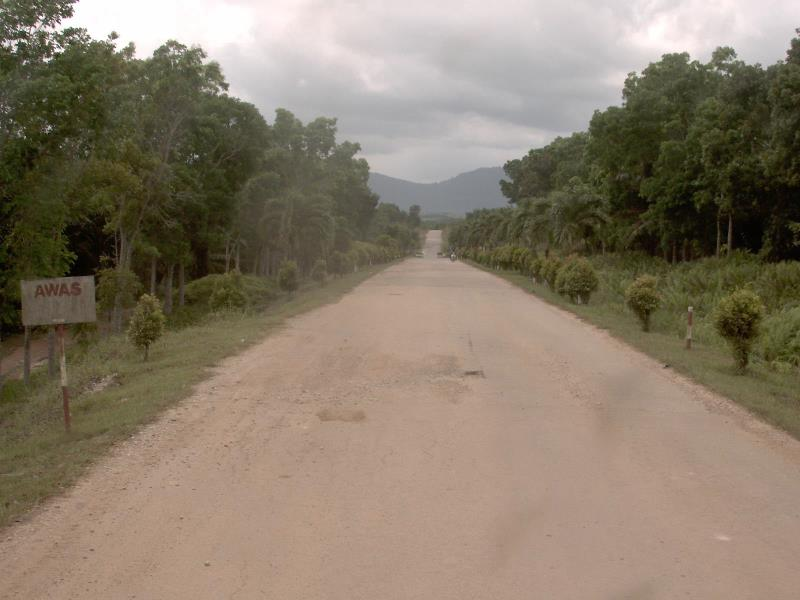ads_sign: (8, 267, 105, 336)
